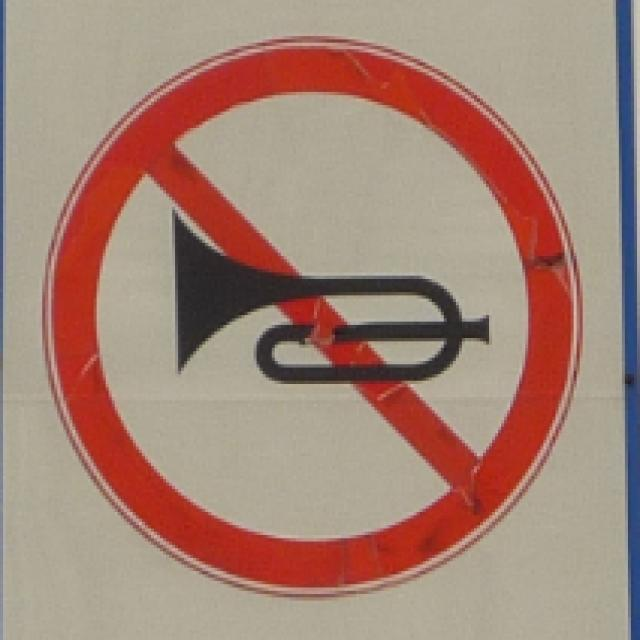No Horn: (45, 35, 587, 601)
